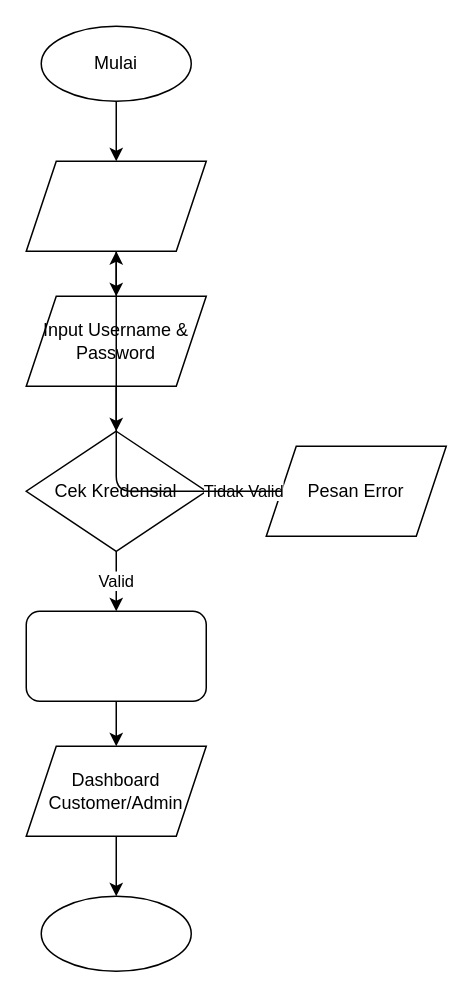
Some shapes in this 473 by 998 pixel diagram are drawn without their labels. Each missing label, with the box of its shape:
Halaman Login: (25, 160, 206, 251)
Selesai: (40, 895, 191, 971)
Set Session: (25, 610, 206, 701)
